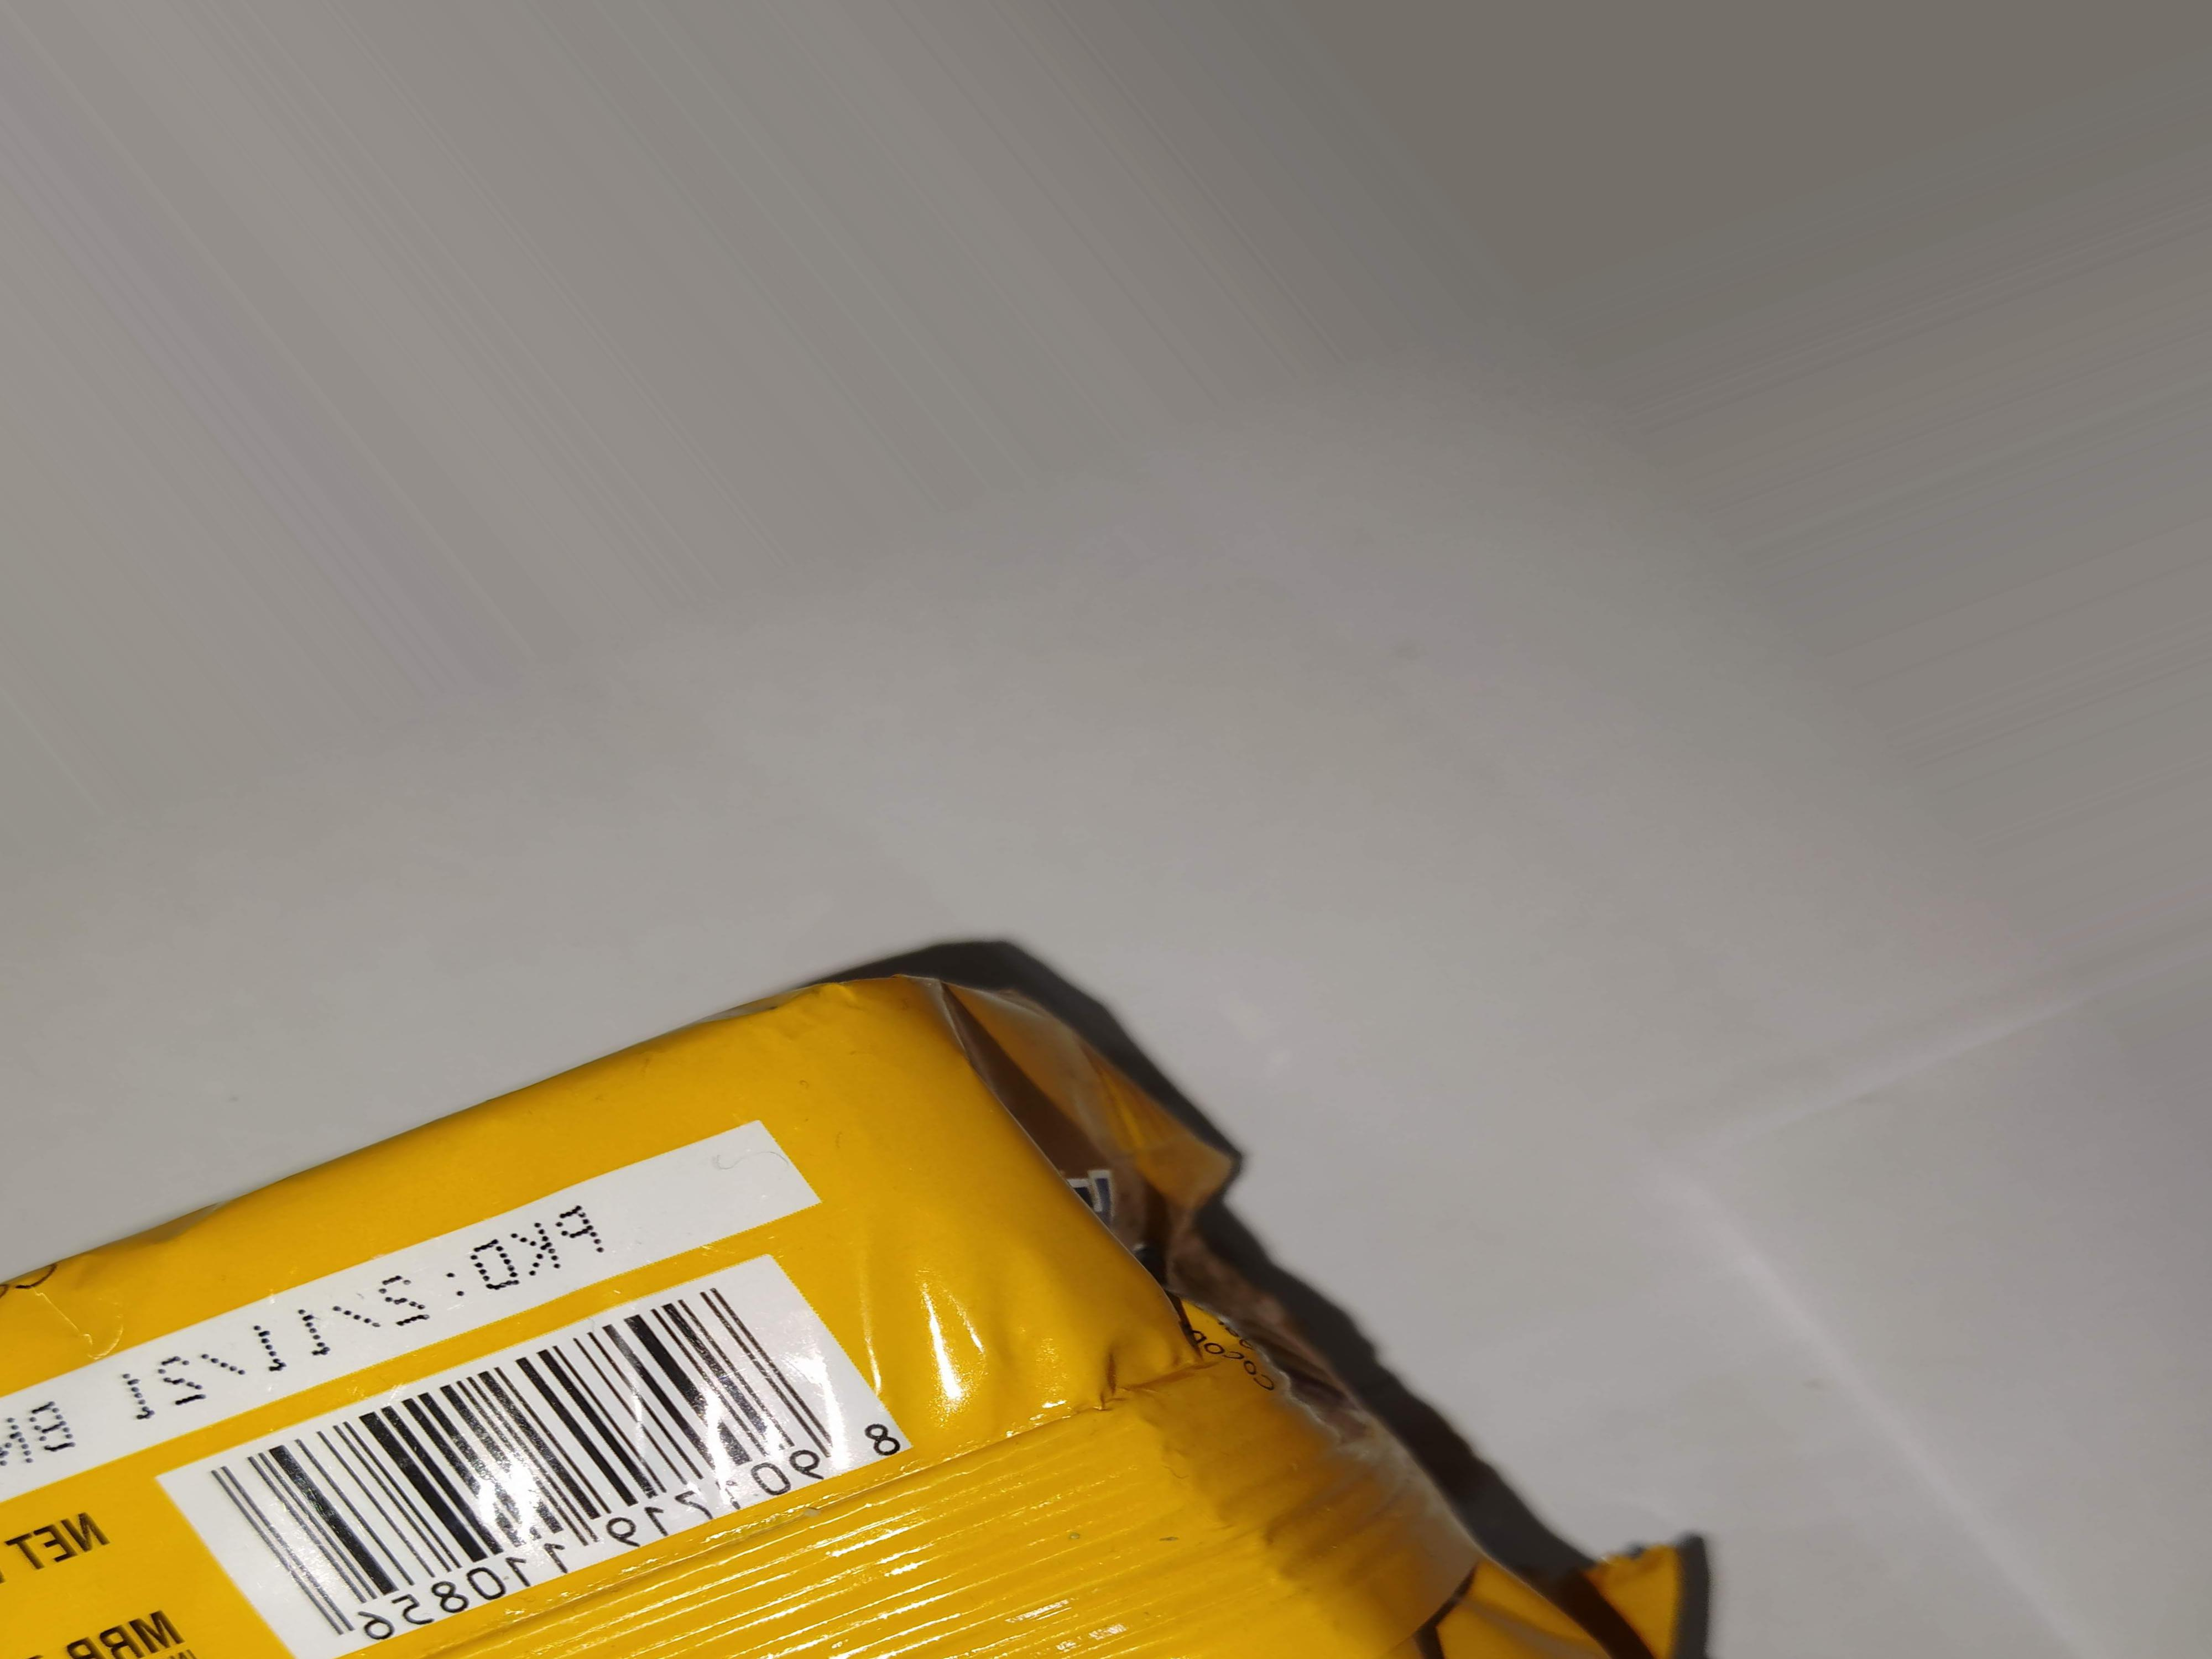Bar_code: (165, 1288, 972, 1645)
Item: (44, 835, 2052, 1659)
